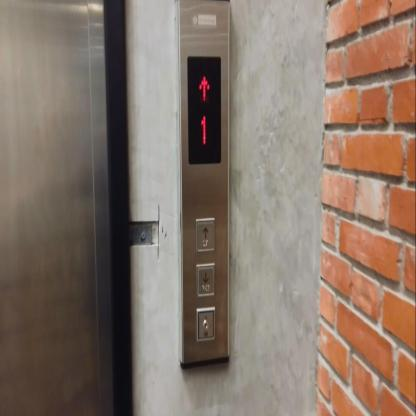down: (197, 263, 214, 296)
led: (186, 53, 222, 165)
unknown: (196, 307, 215, 340)
up: (196, 218, 215, 252)
